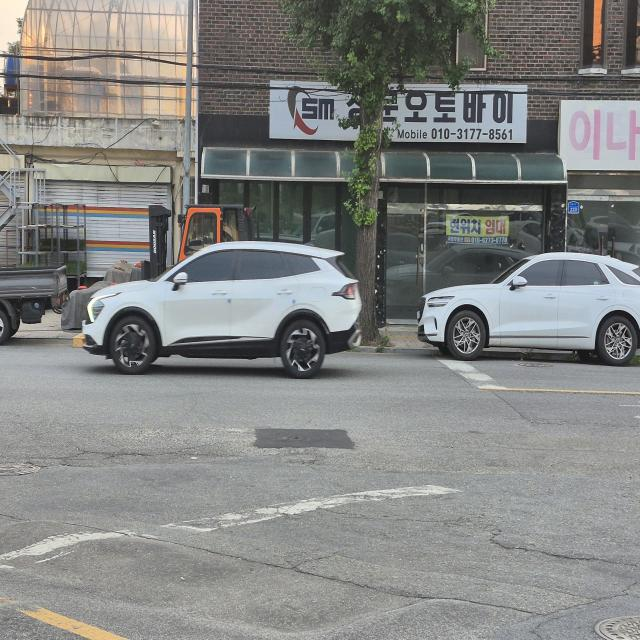car: (81, 238, 356, 375), (52, 202, 281, 335), (414, 252, 639, 364), (0, 144, 98, 354)
